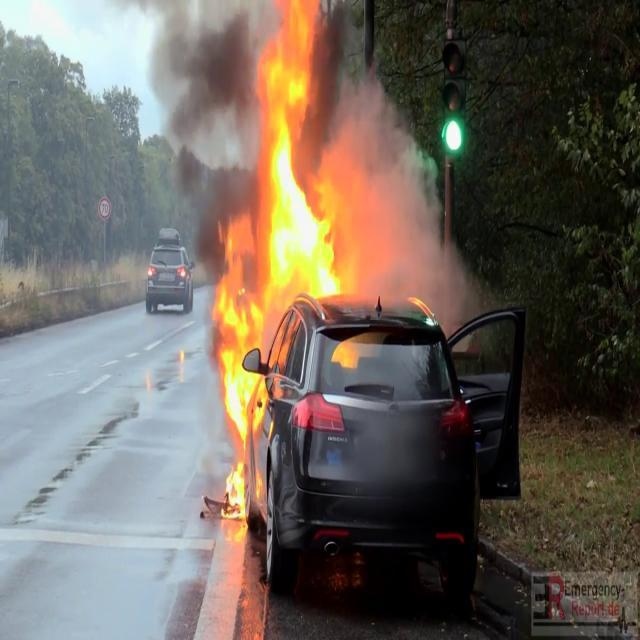Fire: (212, 6, 356, 508), (211, 257, 271, 521)
Smoke: (138, 0, 262, 259), (335, 73, 465, 319)
